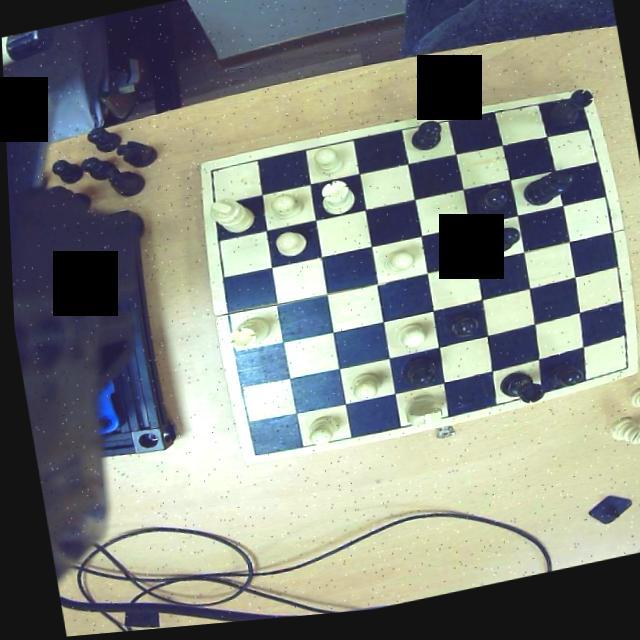chess-table-corners: (239, 442, 266, 468), (196, 164, 222, 190), (560, 100, 590, 118), (610, 364, 634, 386)
